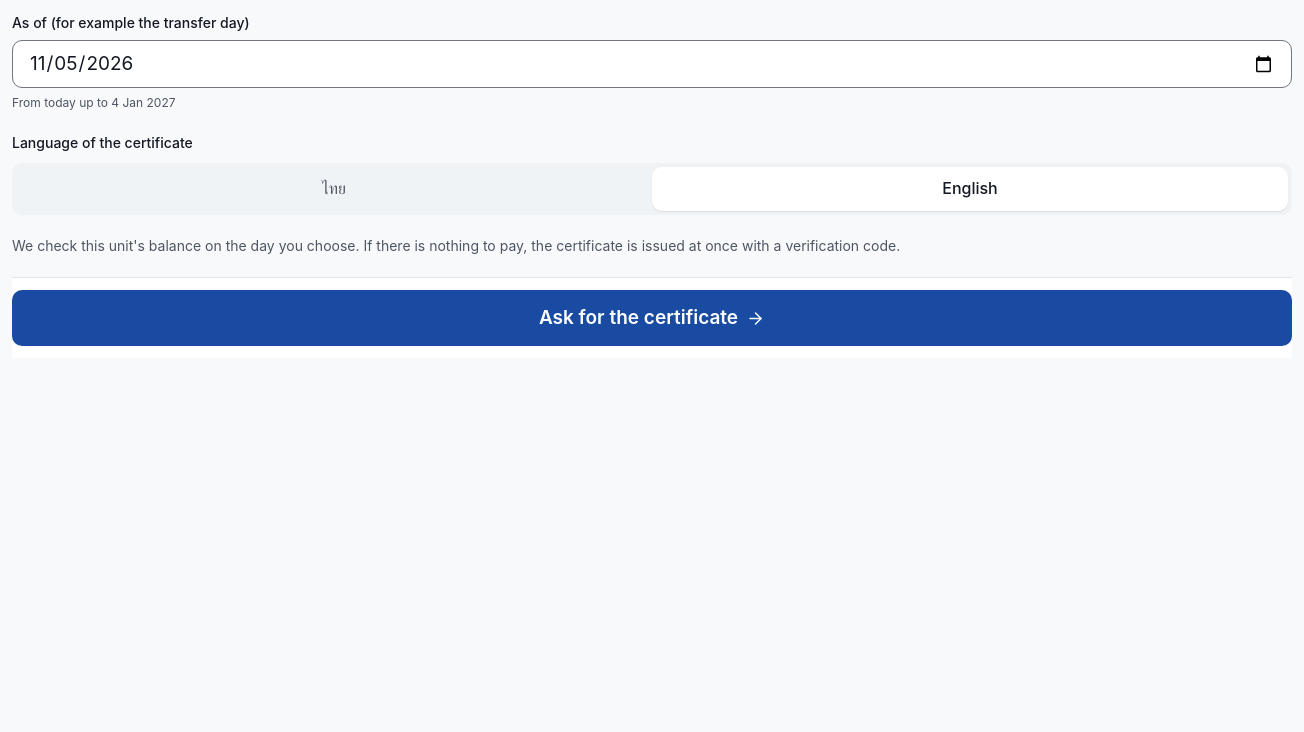
ClearanceRequest › shows the certificate with the one-time code and its verification link
The image size is (1304, 732).
Step 1. Click the button with test id "clearance-submit" → (652, 318), box [12,290,1292,346]
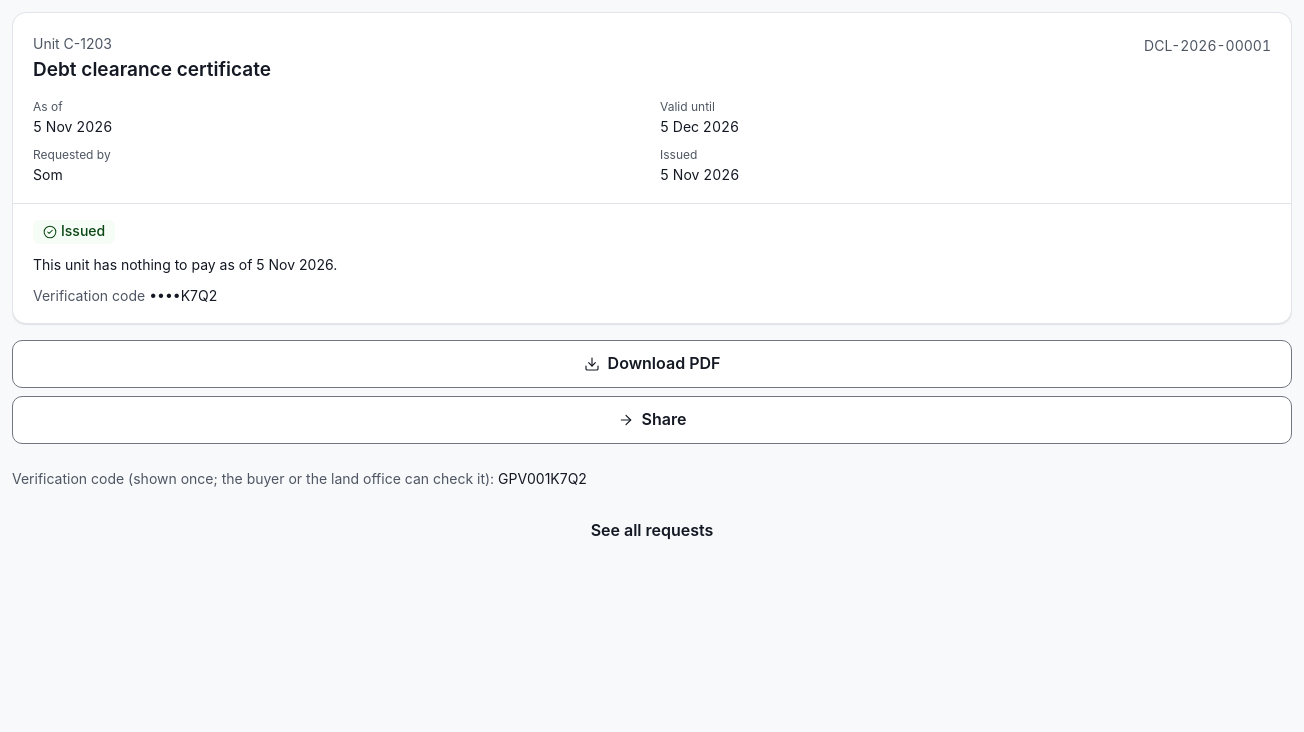
Result: the element with test id "clearance-code" shows "GPV001K7Q2" at [498,470,587,487]
